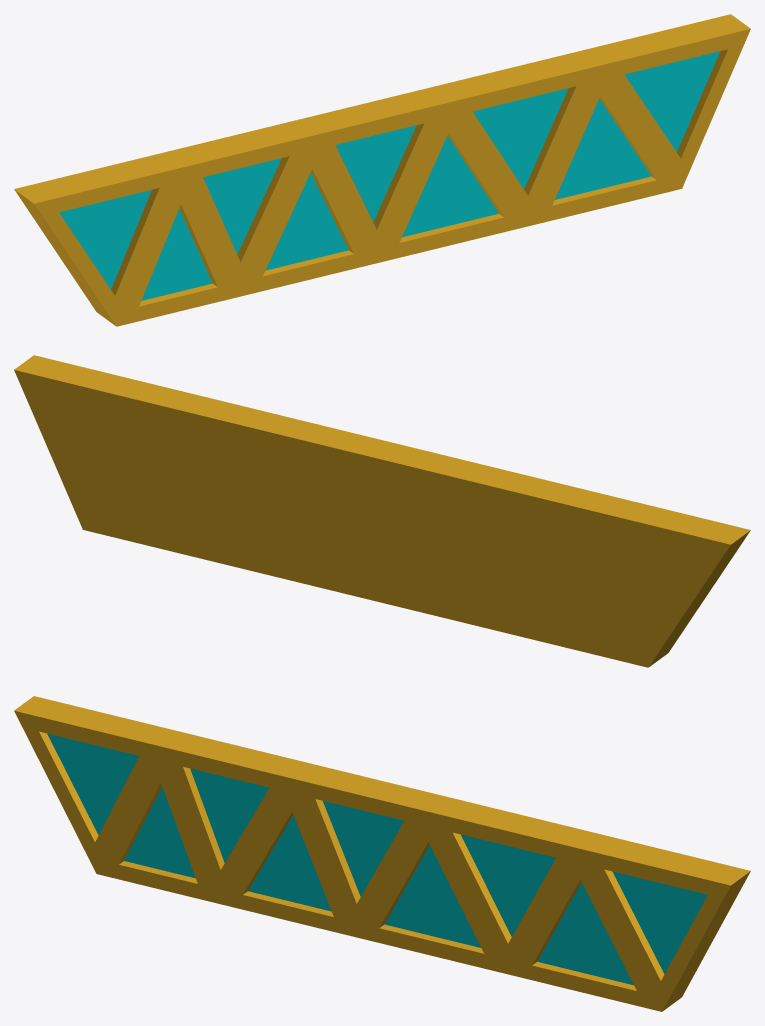
Rendered from Prop_Jungle_Temple_Ornament_Chevron_Plaque_Gold_Gem_01.FBX.
3 views of the same model, one above another, from view 1: azimuth 30°, elevation 25°; view 2: azimuth 150°, elevation 25°; view 3: azimuth 330°, elevation 25° (orthographic).
Parts seen in each view (by area): view 1: Prop_Jungle_Temple_Ornament_Chevron_Plaque_Gold_Gem_01; view 2: Prop_Jungle_Temple_Ornament_Chevron_Plaque_Gold_Gem_01; view 3: Prop_Jungle_Temple_Ornament_Chevron_Plaque_Gold_Gem_01.
Part boxes in pixels (box(x1,y1,x2,y2)): Prop_Jungle_Temple_Ornament_Chevron_Plaque_Gold_Gem_01: box(14, 14, 750, 326); Prop_Jungle_Temple_Ornament_Chevron_Plaque_Gold_Gem_01: box(14, 355, 750, 667); Prop_Jungle_Temple_Ornament_Chevron_Plaque_Gold_Gem_01: box(14, 696, 750, 1011).
Bounding box in the file's own units: 916 × 175 × 44.43.
